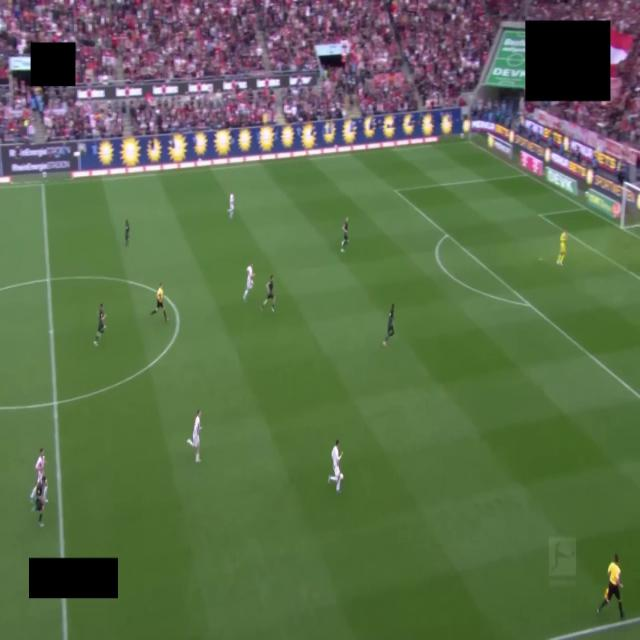player: (30, 448, 45, 500), (329, 440, 343, 492), (187, 410, 200, 463), (34, 476, 46, 527), (261, 275, 275, 311), (383, 304, 394, 347), (94, 304, 105, 345), (243, 264, 254, 301), (557, 230, 567, 265), (341, 218, 348, 252), (228, 193, 234, 219), (125, 219, 129, 246)
referee: (151, 283, 168, 322)
